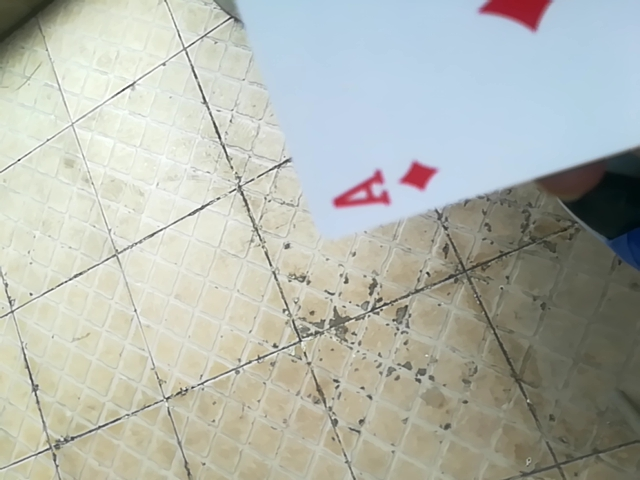fk a: (222, 0, 637, 237)
